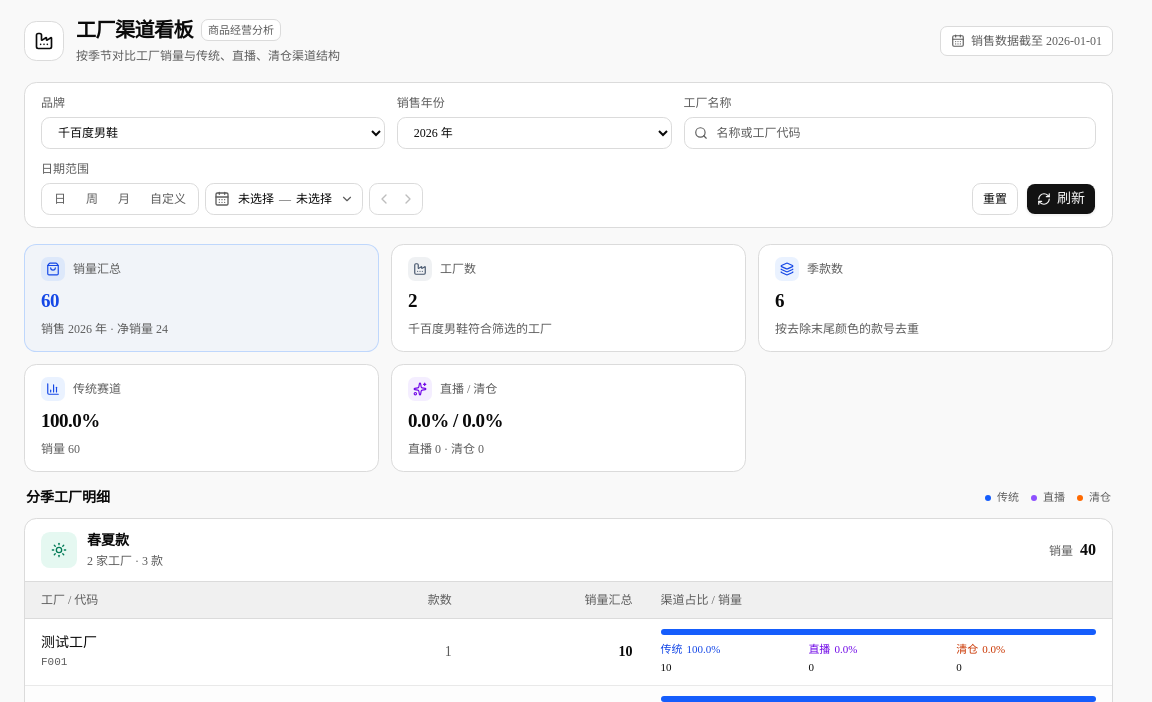
Test: season tables show channel values and totals, and factory filtering can be cleared locally
Check: the button "刷新" is enabled, box [1026, 183, 1096, 215]
Check: the text "60" is shown, box [41, 290, 59, 311]
Type "F002" into the field labelled "工厂名称" at (890, 133), box [684, 117, 1096, 149]
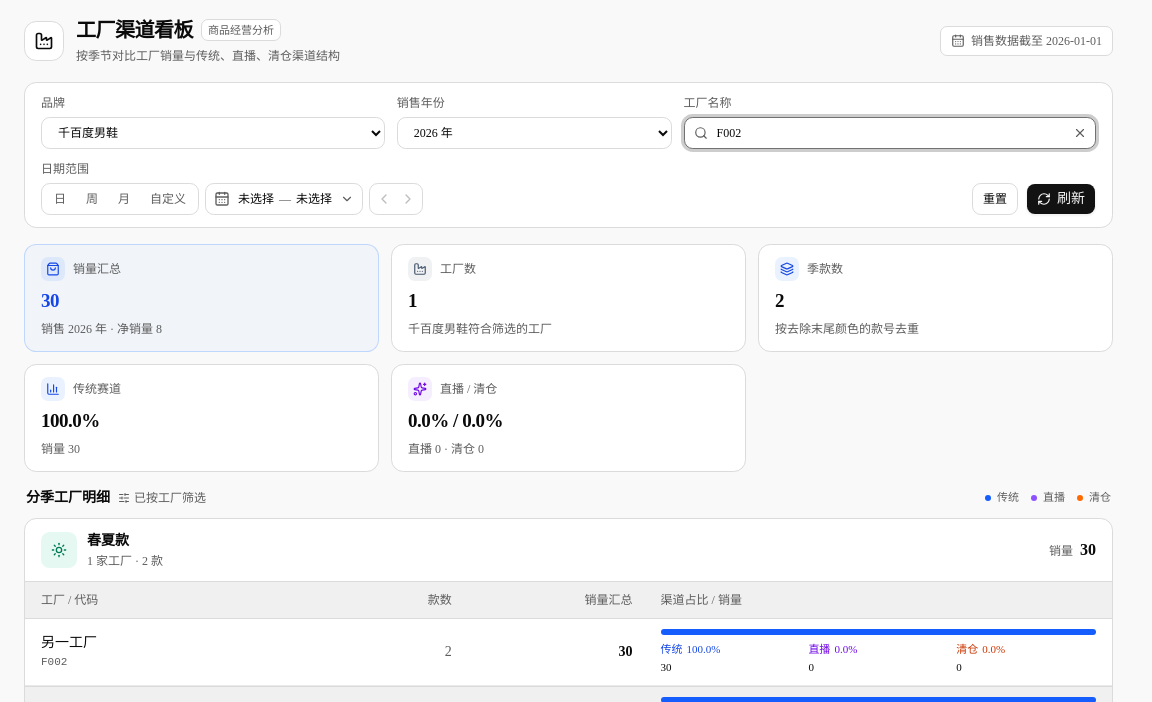
Check: the text "另一工厂" is shown, box [41, 635, 97, 650]
Check: the text "测试工厂" is gone
Check: the text "已按工厂筛选" is shown, box [118, 490, 206, 506]
Click the button named "清除工厂筛选" at (1080, 133), box [1068, 121, 1092, 145]
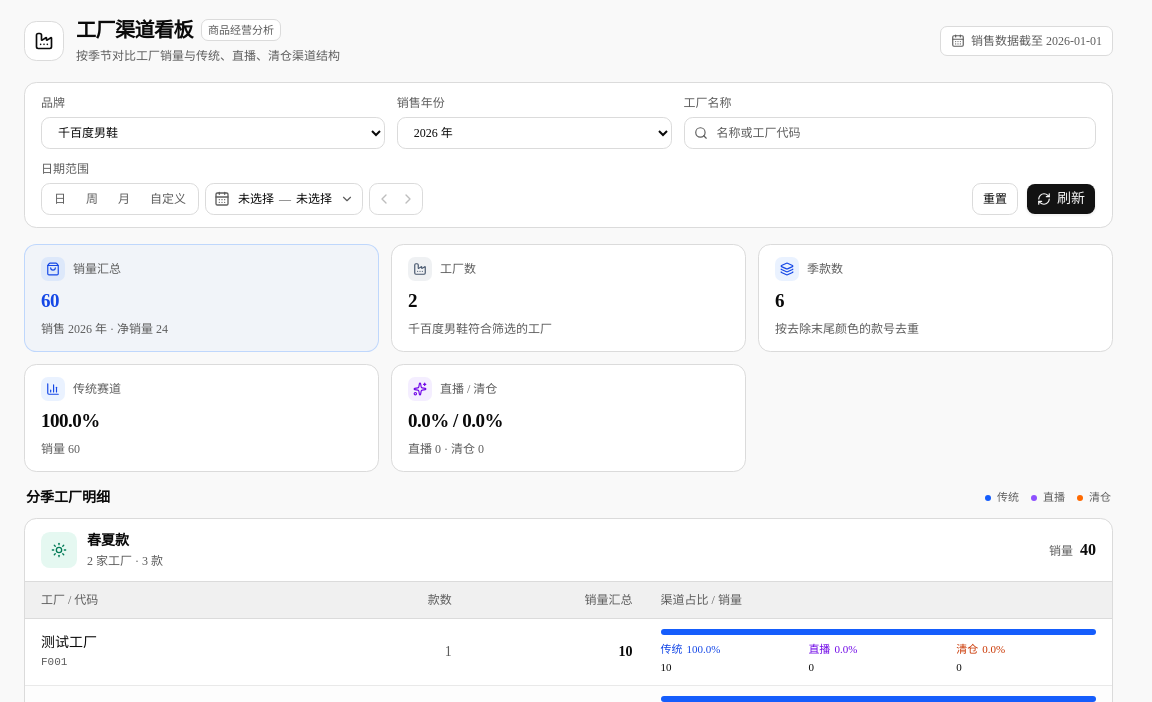
Check: the field labelled "工厂名称" is empty, box [684, 117, 1096, 149]
Check: the text "测试工厂" is shown 2 times
Check: the text "已按工厂筛选" is gone
